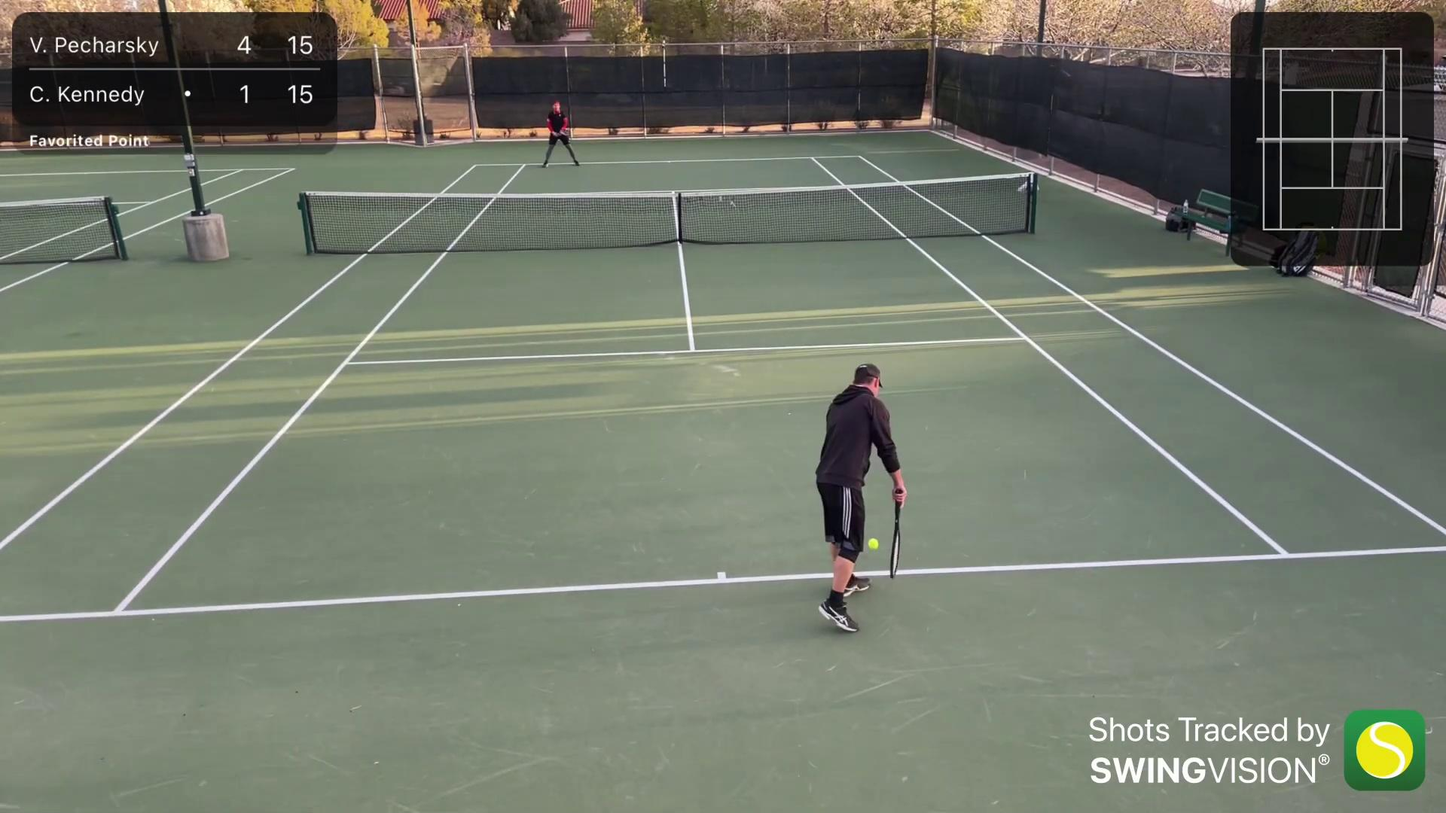ball: (866, 536, 881, 553)
